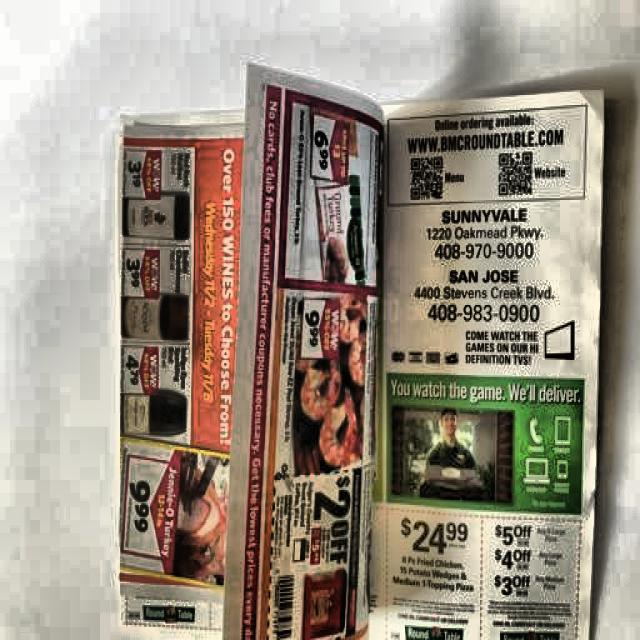paper: (113, 62, 609, 640)
